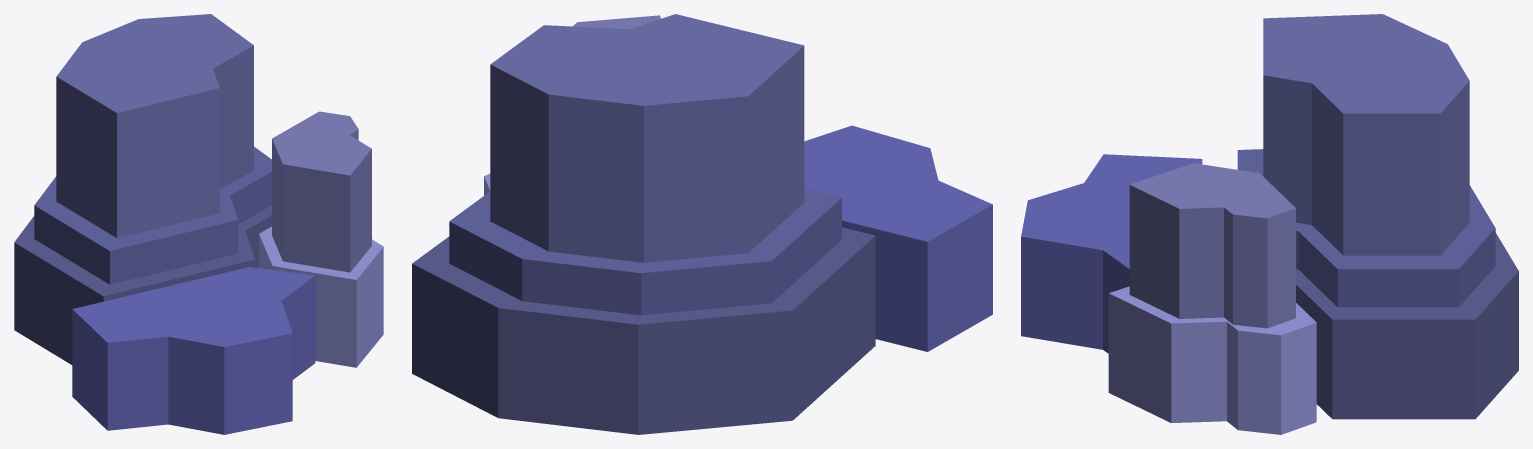
Rendered from NC_Stone03.fbx.
3 renders of one model, left to right at view 1: azimuth 30°, elevation 25°; view 2: azimuth 150°, elevation 25°; view 3: azimuth 270°, elevation 25°, orthographic. The views are drawn at different scales.
Visible parts, largest first — view 1: NC_Stone03; view 2: NC_Stone03; view 3: NC_Stone03.
Part boxes in pixels (x1,y1,x2,y2): NC_Stone03: (14,14,383,434); NC_Stone03: (412,14,992,434); NC_Stone03: (1021,14,1518,434).
Size of the model in its own units: 70.99 by 51.12 by 82.46.
1 material, 1 textured.
